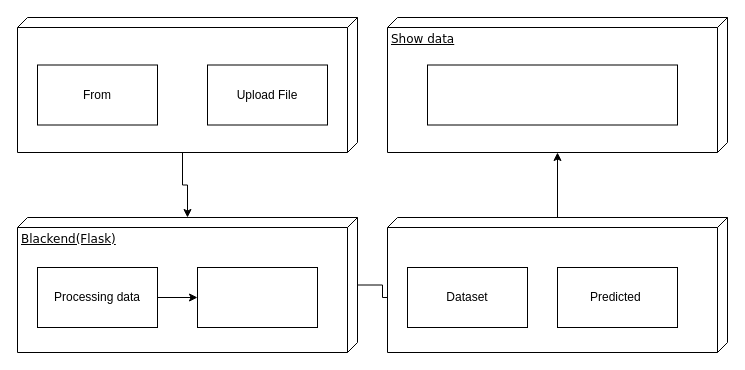
This 745x370 diagram has some shape labels left out. The box of each missing label's shape, as (x1, y1, x2, y2) in pixels:
DataBase: (386, 216, 728, 352)
Input data: (16, 16, 358, 152)
Model: (196, 266, 318, 328)
Recommandations: (426, 64, 678, 125)
